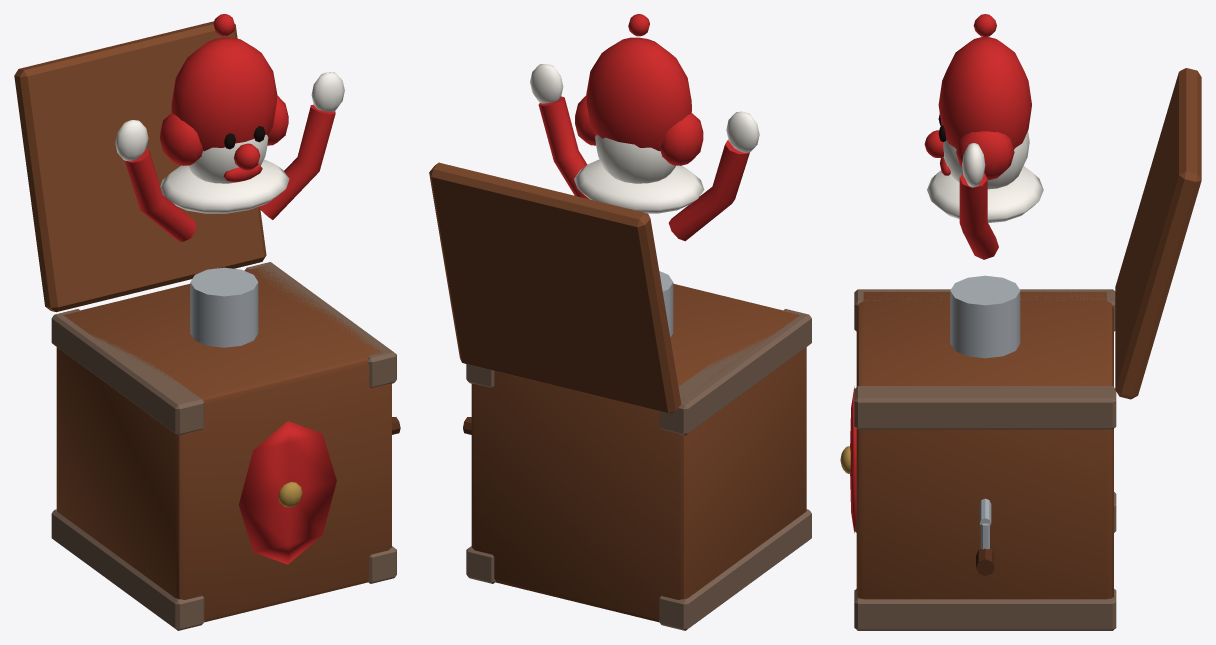
File: PR_JackInTheBox.fbx
3 views of the same model, side by side, from view 1: azimuth 30°, elevation 25°; view 2: azimuth 150°, elevation 25°; view 3: azimuth 270°, elevation 25° (orthographic). The views are drawn at different scales.
Visible parts, largest first — view 1: PR_JackInTheBox_Wood, Lid.003_Wood, PR_JackInTheBox_ClownRed, PR_JackInTheBox_Rust, PR_JackInTheBox_ClownWhite, PR_JackInTheBox_Steel; view 2: PR_JackInTheBox_Wood, Lid.003_Wood, PR_JackInTheBox_ClownRed, PR_JackInTheBox_Rust, PR_JackInTheBox_ClownWhite, PR_JackInTheBox_Steel; view 3: PR_JackInTheBox_Wood, PR_JackInTheBox_Rust, Lid.003_Wood, PR_JackInTheBox_ClownRed, PR_JackInTheBox_Steel, PR_JackInTheBox_ClownWhite.
Part boxes in pixels (bbox=[...]): PR_JackInTheBox_Wood: bbox=[56, 265, 391, 622]; Lid.003_Wood: bbox=[14, 21, 266, 312]; PR_JackInTheBox_ClownRed: bbox=[125, 14, 336, 564]; PR_JackInTheBox_Rust: bbox=[51, 262, 396, 630]; PR_JackInTheBox_ClownWhite: bbox=[115, 72, 344, 213]; PR_JackInTheBox_Steel: bbox=[190, 267, 258, 347]; PR_JackInTheBox_Wood: bbox=[471, 283, 806, 622]; Lid.003_Wood: bbox=[429, 162, 681, 413]; PR_JackInTheBox_ClownRed: bbox=[538, 14, 749, 241]; PR_JackInTheBox_Rust: bbox=[466, 309, 811, 630]; PR_JackInTheBox_ClownWhite: bbox=[530, 64, 759, 213]; PR_JackInTheBox_Steel: bbox=[659, 271, 673, 337]; PR_JackInTheBox_Wood: bbox=[856, 292, 1113, 599]; PR_JackInTheBox_Rust: bbox=[854, 289, 1116, 630]; Lid.003_Wood: bbox=[1115, 68, 1201, 399]; PR_JackInTheBox_ClownRed: bbox=[850, 14, 1031, 533]; PR_JackInTheBox_Steel: bbox=[950, 275, 1020, 549]; PR_JackInTheBox_ClownWhite: bbox=[927, 131, 1043, 222].
Size of the model in its own units: 0.2902 by 0.53 by 0.309.
